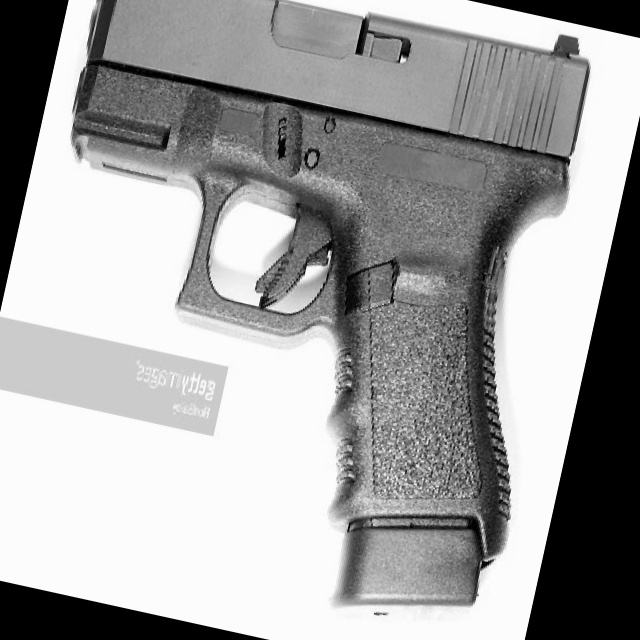gun: (0, 0, 621, 635)
